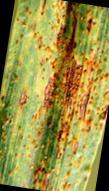Wheat: (19, 30, 105, 129)
